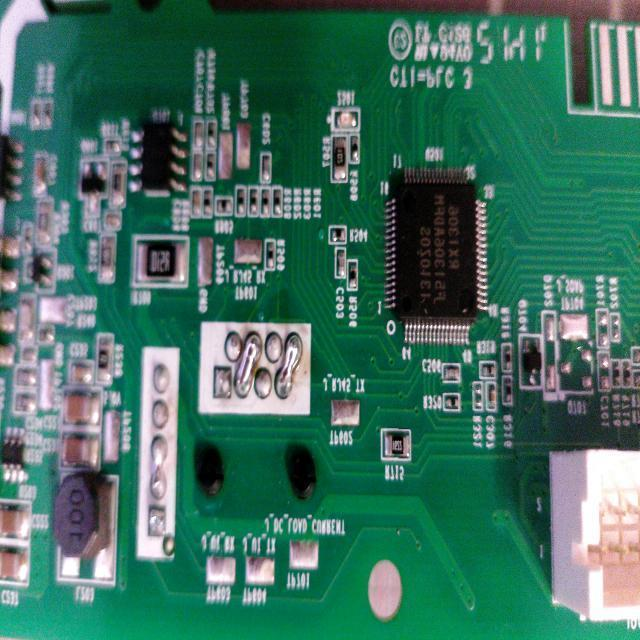Soldering shorted: (274, 330, 305, 403), (234, 324, 263, 400), (148, 436, 170, 498)
